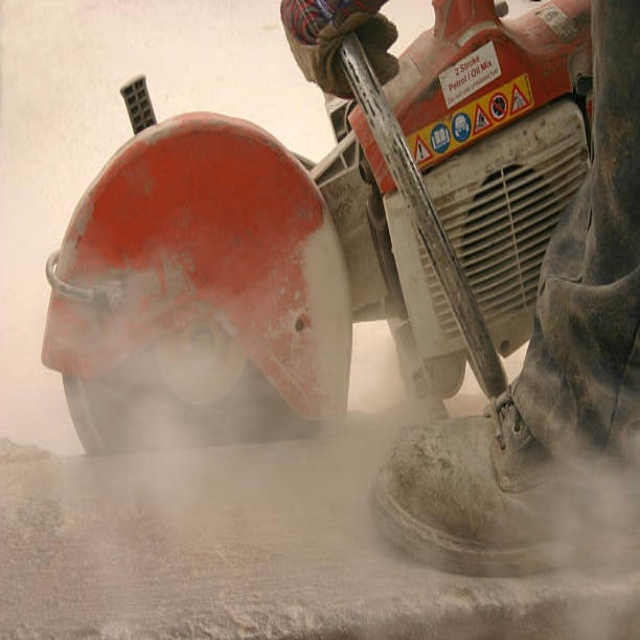Guantes: (281, 2, 402, 101)
